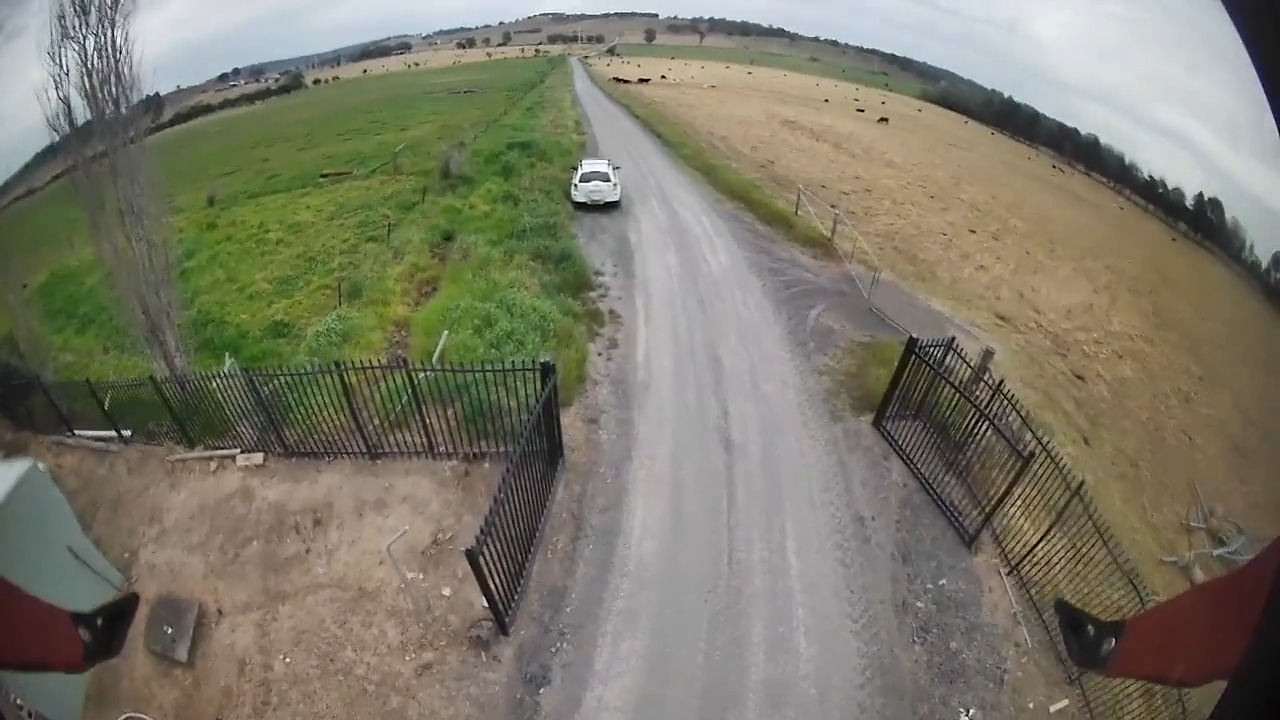Car: (568, 158, 622, 207)
